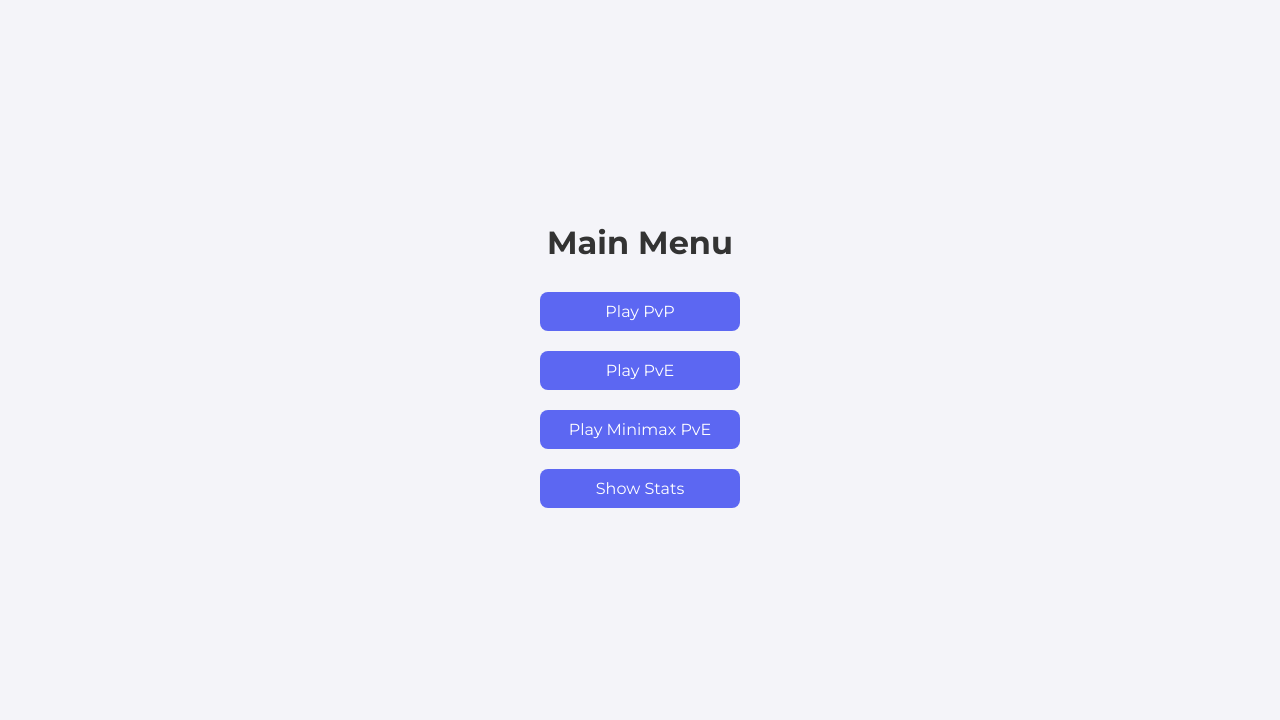
Test case: ProfilePage › handles show stats click correctly
Click the button "Show Stats".
click(640, 489)  # box [540,469,740,508]
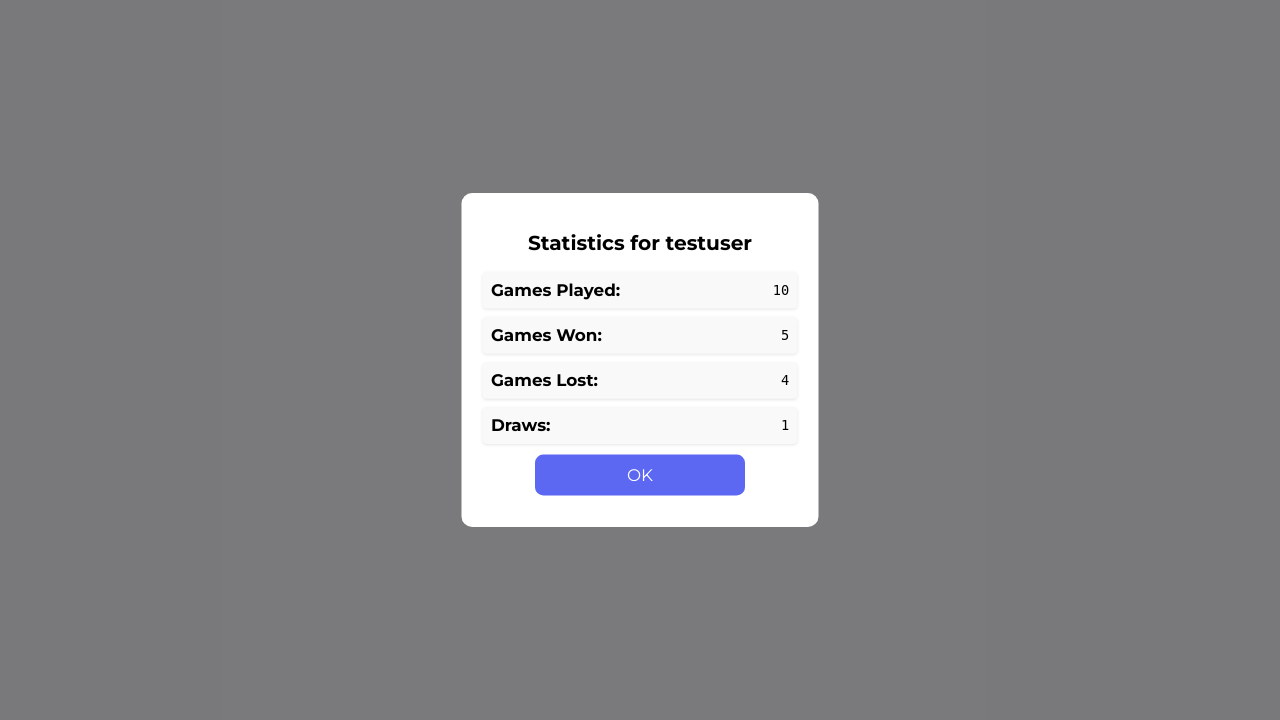
Result: the text "10" is shown at [773,283,789,299]
Result: the text "5" is shown at [781,328,789,344]
Result: the text "4" is shown at [781,373,789,389]
